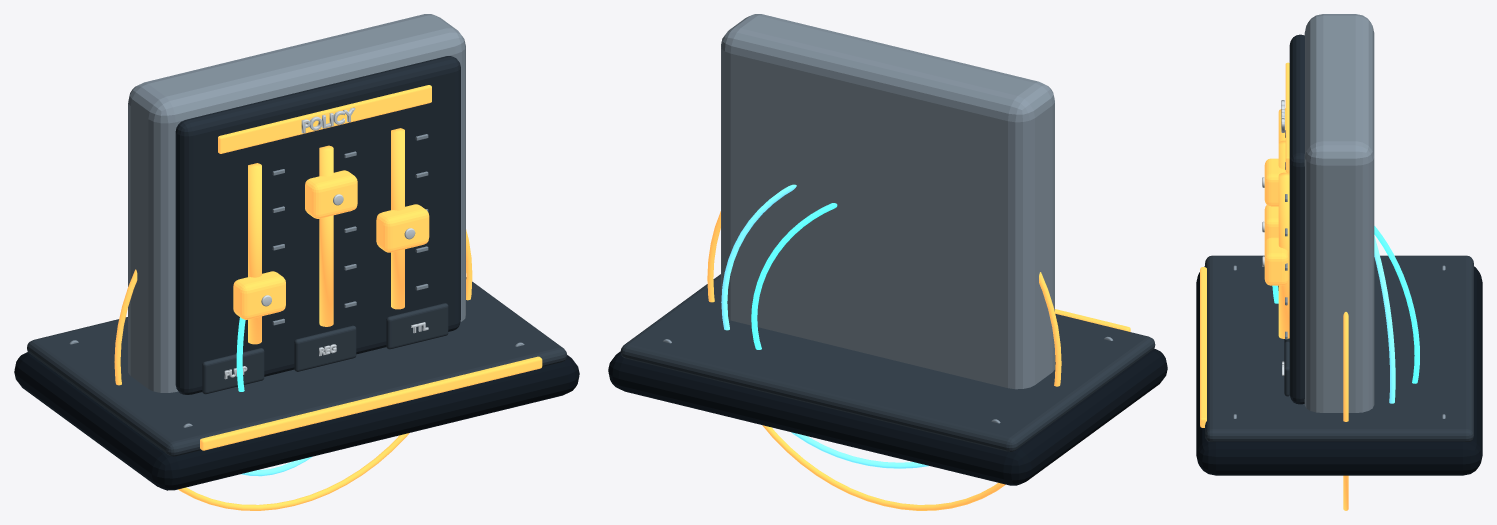
The model's file is Usage_Policy.glb.
3 renders of one model, left to right at view 1: azimuth 30°, elevation 25°; view 2: azimuth 150°, elevation 25°; view 3: azimuth 270°, elevation 25°, orthographic. The views are drawn at different scales.
Visible parts, largest first — view 1: Usage_Policy_Console, Usage_Policy_Frame, Usage_Policy_Base1, Usage_Policy_Base0, Usage_Policy_FrontGlow, Usage_Policy_Header, Usage_Policy_RuleOrbit_0, Usage_Policy_Track_1, Usage_Policy_Knob_2, Usage_Policy_Knob_0, Usage_Policy_Knob_1, Usage_Policy_RuleBox_2 (+4 smaller); view 2: Usage_Policy_Frame, Usage_Policy_Base1, Usage_Policy_Base0, Usage_Policy_RuleOrbit_0, Usage_Policy_RuleOrbit_1, Usage_Policy_RuleOrbit_2; view 3: Usage_Policy_Base1, Usage_Policy_Frame, Usage_Policy_Base0, Usage_Policy_Console, Usage_Policy_Track_2, Usage_Policy_RuleOrbit_2, Usage_Policy_FrontGlow, Usage_Policy_Knob_2, Usage_Policy_RuleOrbit_1, Usage_Policy_RuleOrbit_0, Usage_Policy_Knob_1, Usage_Policy_Header (+1 smaller).
Part boxes in pixels (bbox=[...]): Usage_Policy_Console: bbox=[175, 56, 460, 394]; Usage_Policy_Frame: bbox=[128, 14, 465, 392]; Usage_Policy_Base1: bbox=[27, 277, 566, 456]; Usage_Policy_Base0: bbox=[14, 352, 579, 490]; Usage_Policy_FrontGlow: bbox=[200, 356, 542, 450]; Usage_Policy_Header: bbox=[218, 85, 431, 153]; Usage_Policy_RuleOrbit_0: bbox=[114, 229, 472, 510]; Usage_Policy_Track_1: bbox=[319, 145, 333, 326]; Usage_Policy_Knob_2: bbox=[376, 204, 429, 252]; Usage_Policy_Knob_0: bbox=[233, 271, 285, 319]; Usage_Policy_Knob_1: bbox=[305, 170, 357, 218]; Usage_Policy_RuleBox_2: bbox=[386, 303, 448, 349]; Usage_Policy_Frame: bbox=[721, 14, 1054, 389]; Usage_Policy_Base1: bbox=[620, 274, 1155, 451]; Usage_Policy_Base0: bbox=[608, 348, 1167, 485]; Usage_Policy_RuleOrbit_0: bbox=[707, 211, 1061, 510]; Usage_Policy_RuleOrbit_1: bbox=[721, 184, 928, 468]; Usage_Policy_RuleOrbit_2: bbox=[751, 203, 837, 349]; Usage_Policy_Base1: bbox=[1205, 255, 1473, 441]; Usage_Policy_Frame: bbox=[1304, 14, 1374, 412]; Usage_Policy_Base0: bbox=[1196, 266, 1482, 475]; Usage_Policy_Console: bbox=[1289, 34, 1304, 404]; Usage_Policy_Track_2: bbox=[1278, 172, 1289, 338]; Usage_Policy_RuleOrbit_2: bbox=[1272, 226, 1419, 383]; Usage_Policy_FrontGlow: bbox=[1200, 267, 1206, 427]; Usage_Policy_Knob_2: bbox=[1264, 237, 1288, 285]; Usage_Policy_RuleOrbit_1: bbox=[1374, 236, 1395, 403]; Usage_Policy_RuleOrbit_0: bbox=[1343, 312, 1348, 510]; Usage_Policy_Knob_1: bbox=[1264, 158, 1286, 206]; Usage_Policy_Header: bbox=[1285, 62, 1289, 172].
Bounding box in the file's own units: 2.08 × 2.11 × 1.32.
